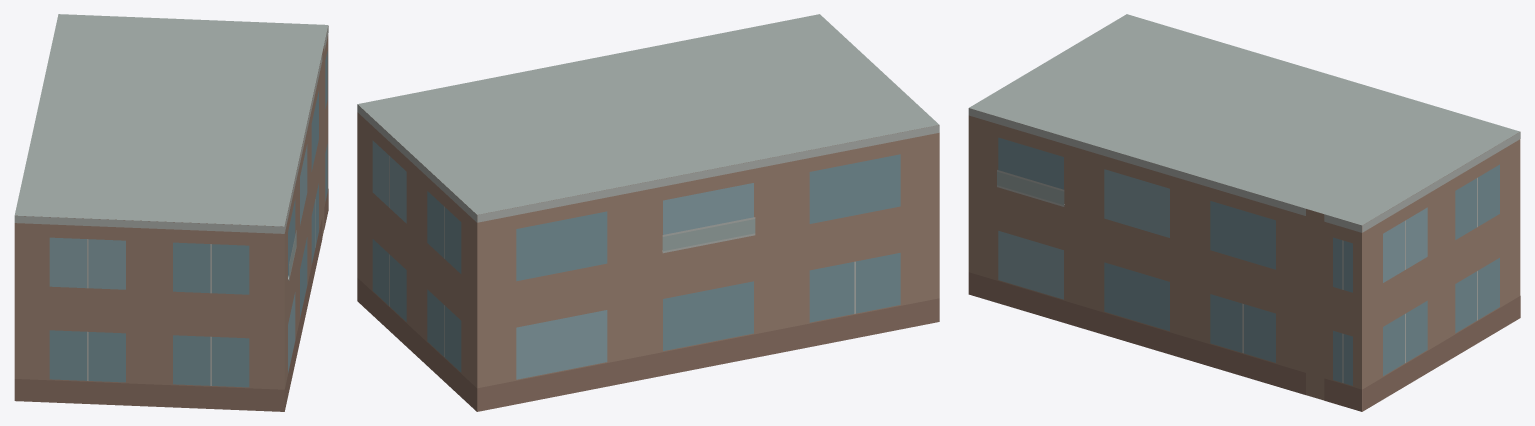
Rendered from survey-upis-32708104.glb.
The picture shows the model from 3 angles, left to right: view 1: azimuth 30°, elevation 25°; view 2: azimuth 150°, elevation 25°; view 3: azimuth 270°, elevation 25°; orthographic projection. The views are drawn at different scales.
Parts seen in each view (by area): view 1: survey-upis-32708104.tmp; view 2: survey-upis-32708104.tmp; view 3: survey-upis-32708104.tmp.
Part boxes in pixels (x1,y1,x2,y2): survey-upis-32708104.tmp: (14,14,328,411); survey-upis-32708104.tmp: (357,14,939,411); survey-upis-32708104.tmp: (968,14,1520,411).
Size of the model in its own units: 14.85 by 6.1 by 16.37.
